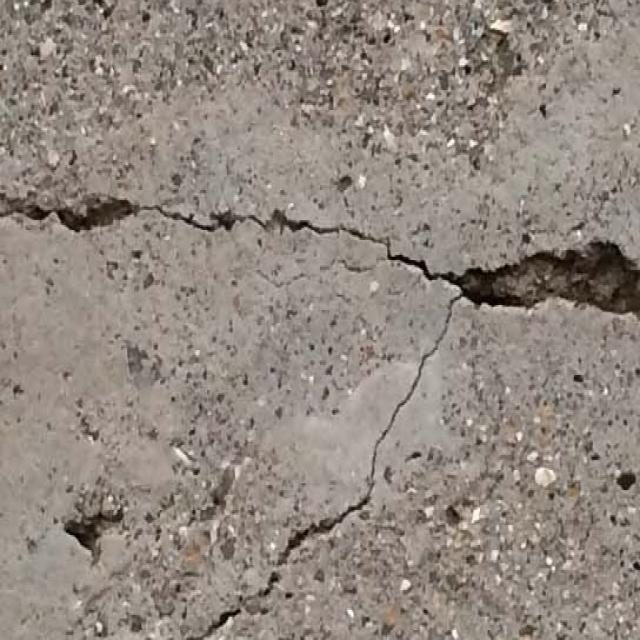crack: (186, 293, 461, 637), (138, 202, 450, 286)
spall: (448, 237, 639, 324), (0, 191, 137, 234), (64, 505, 124, 565)
